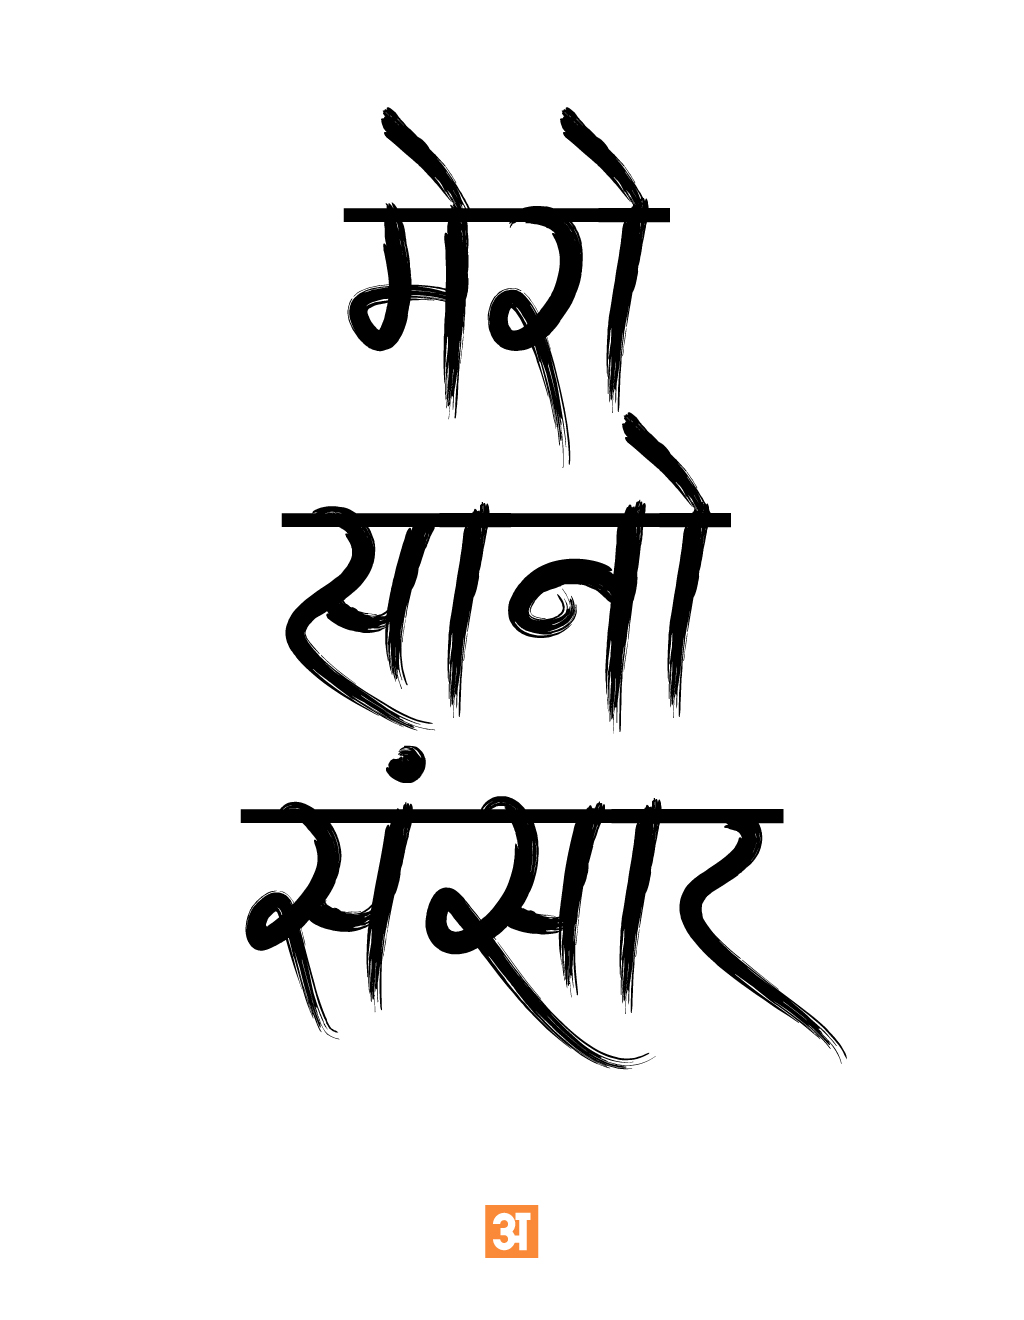text: (239, 742, 856, 1068), (278, 410, 739, 727), (335, 102, 674, 404)
